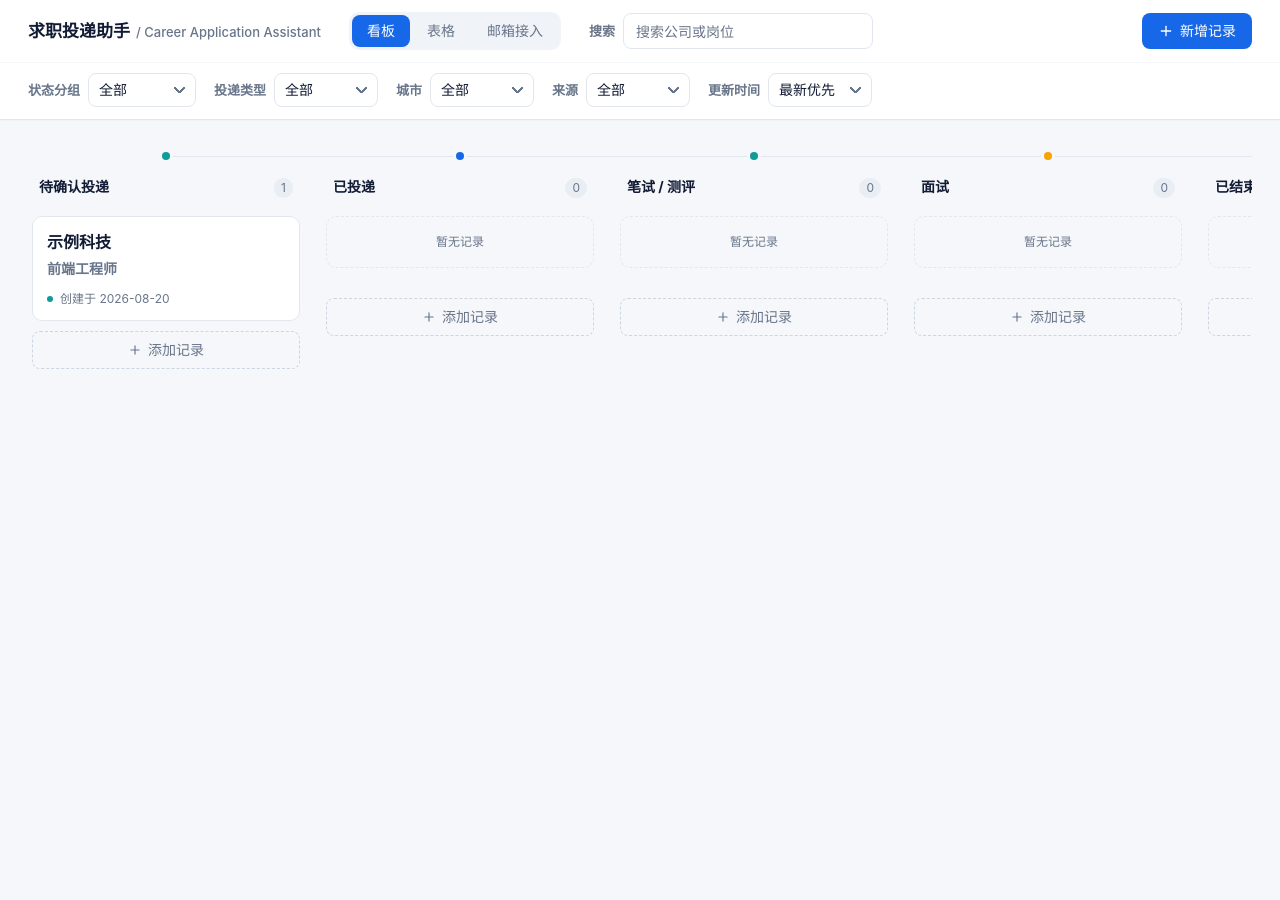
Test: App 核心交互 › 点击卡片打开详情抽屉，ESC 关闭抽屉
Click the button with test id "board-card-1".
click(79, 242)  # box [32, 216, 300, 321]
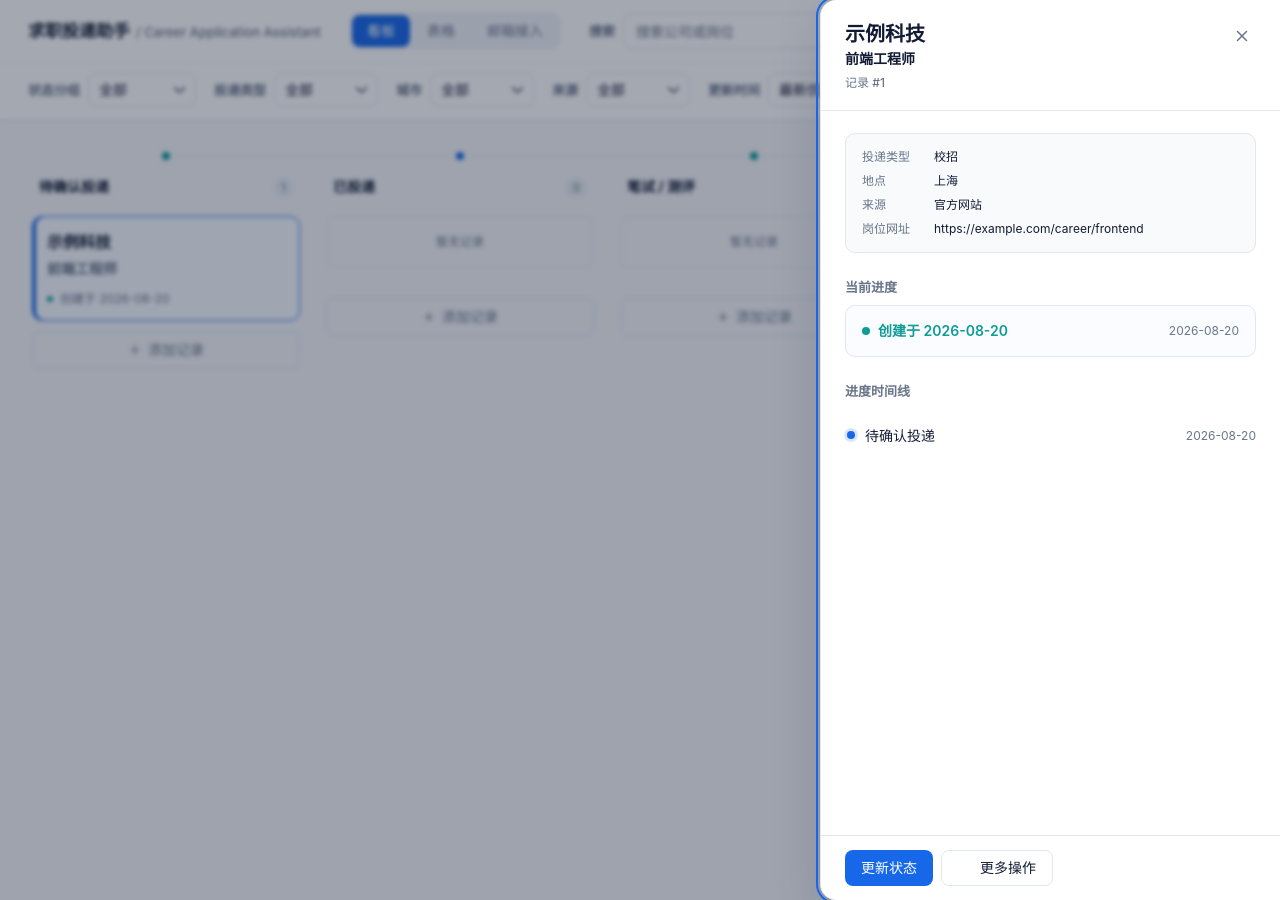
Expected: the element with test id "drawer-current-status" reads "创建于 2026-08-20", [878, 322, 1008, 339]
Press Escape
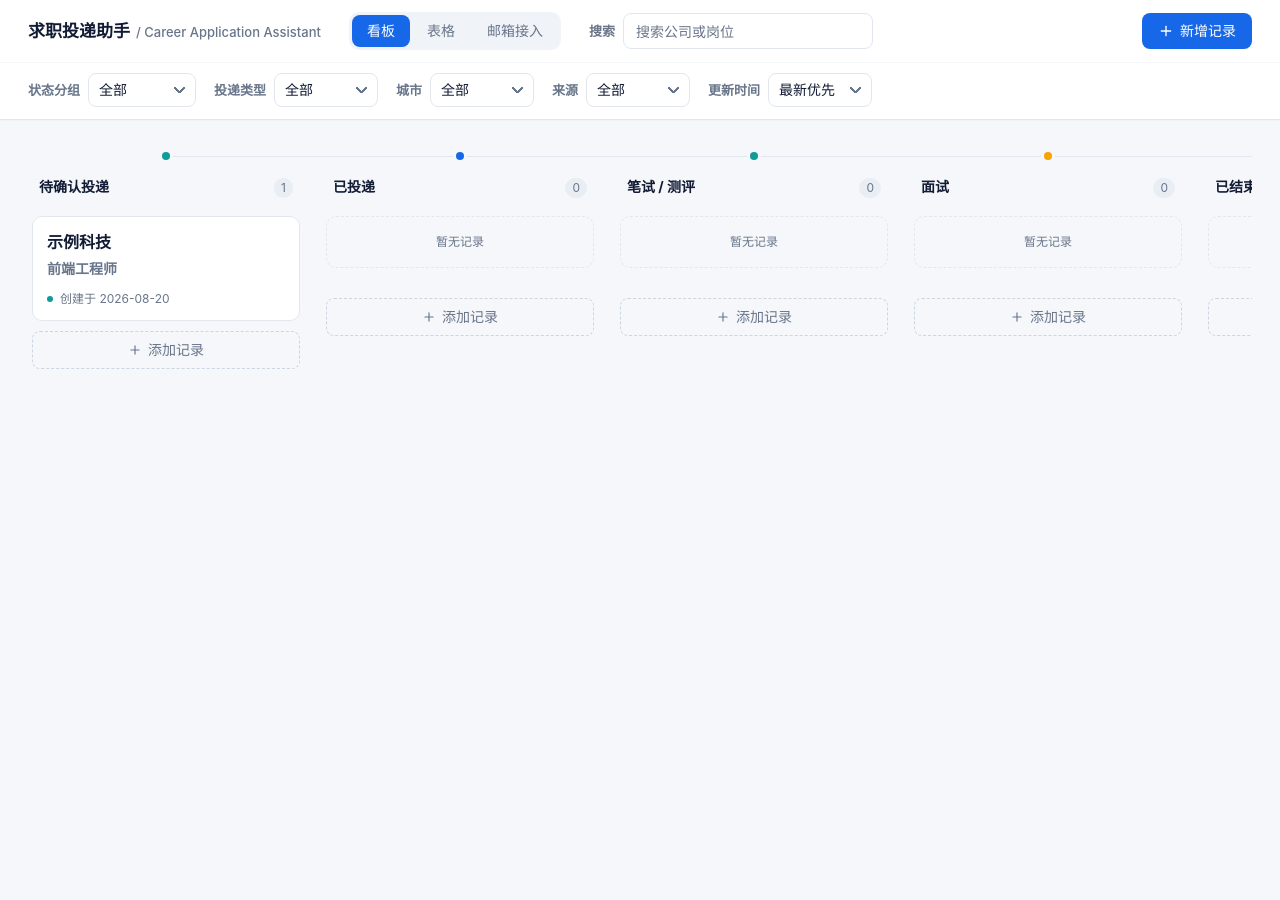
Expected: the element with test id "detail-drawer" is gone
